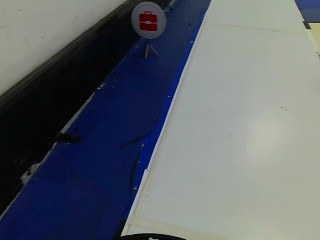company: (129, 3, 164, 38)
